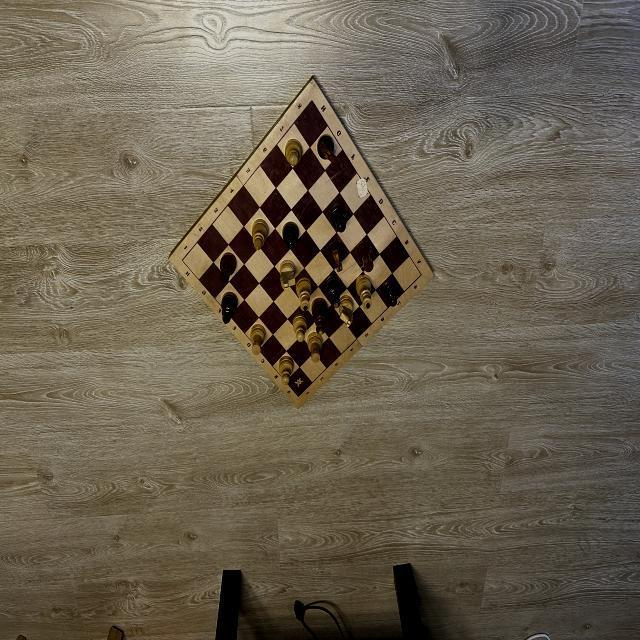chess-table-corners: (308, 96, 316, 105), (418, 272, 424, 278), (180, 257, 185, 264), (296, 394, 301, 400)
